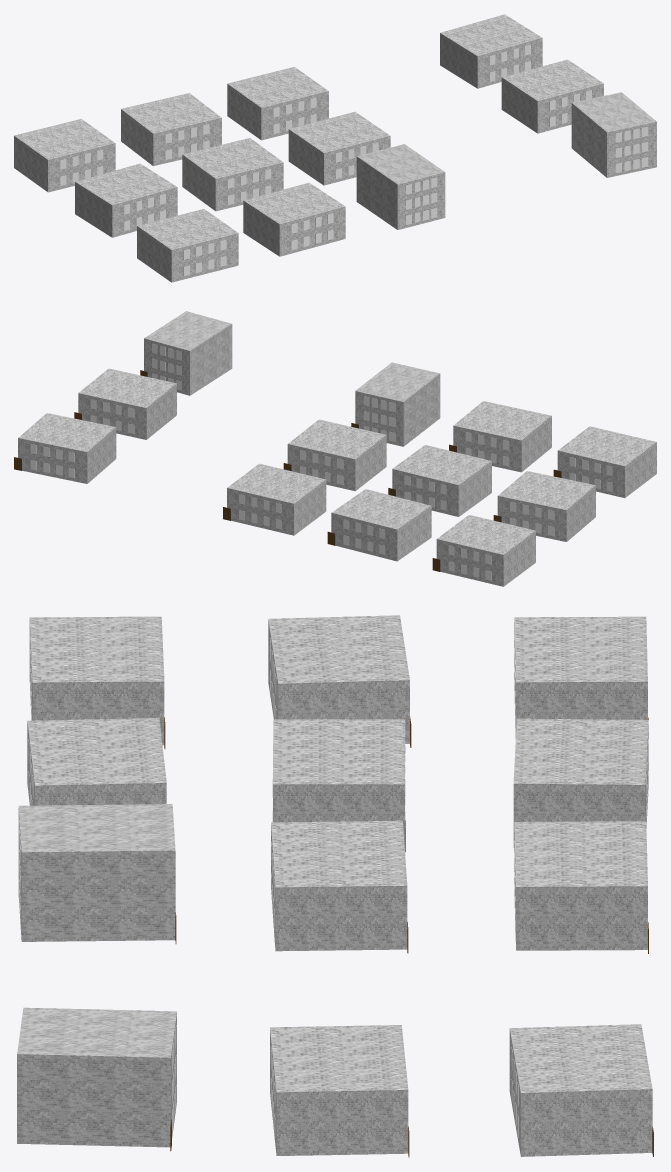
The model's file is bld_mlmupov9_vqi1w26.glb.
3 renders of one model, top to bottom at view 1: azimuth 30°, elevation 25°; view 2: azimuth 150°, elevation 25°; view 3: azimuth 270°, elevation 25°, orthographic. The views are drawn at different scales.
Visible parts, largest first — view 1: building-building-1771105878157-12, building-building-1771105878157-11, building-building-1771105878157-14, building-building-1771105878157-10, building-building-1771105878157-4, building-building-1771105878157-5, building-building-1771105878157-2, building-building-1771105878156-0, building-building-1771105878157-6, building-building-1771105878157-1, building-building-1771105878157-9, building-building-1771105878157-7; view 2: building-building-1771105878157-1, building-building-1771105878157-14, building-building-1771105878156-0, building-building-1771105878157-2, building-building-1771105878157-4, building-building-1771105878157-12, building-building-1771105878157-6, building-building-1771105878157-7, building-building-1771105878157-10, building-building-1771105878157-11, building-building-1771105878157-9, building-building-1771105878157-5; view 3: building-building-1771105878157-14, building-building-1771105878157-12, building-building-1771105878157-4, building-building-1771105878157-9, building-building-1771105878157-7, building-building-1771105878157-2, building-building-1771105878157-5, building-building-1771105878157-10, building-building-1771105878157-1, building-building-1771105878156-0, building-building-1771105878157-6, building-building-1771105878157-11.
Part boxes in pixels (x1,y1,x2,y2): building-building-1771105878157-12: (356, 144, 445, 229); building-building-1771105878157-11: (243, 182, 345, 256); building-building-1771105878157-14: (571, 92, 656, 177); building-building-1771105878157-10: (137, 209, 238, 282); building-building-1771105878157-4: (440, 14, 542, 88); building-building-1771105878157-5: (75, 163, 177, 237); building-building-1771105878157-2: (227, 67, 328, 140); building-building-1771105878156-0: (14, 119, 115, 192); building-building-1771105878157-6: (182, 138, 283, 211); building-building-1771105878157-1: (121, 93, 221, 166); building-building-1771105878157-9: (501, 59, 603, 133); building-building-1771105878157-7: (288, 111, 390, 185); building-building-1771105878157-1: (327, 489, 431, 561); building-building-1771105878157-14: (140, 311, 232, 395); building-building-1771105878156-0: (432, 515, 535, 586); building-building-1771105878157-2: (223, 463, 326, 535); building-building-1771105878157-4: (14, 413, 116, 483); building-building-1771105878157-12: (351, 362, 440, 446); building-building-1771105878157-6: (388, 445, 491, 516); building-building-1771105878157-7: (283, 419, 386, 491); building-building-1771105878157-10: (553, 426, 656, 498); building-building-1771105878157-11: (449, 401, 551, 472); building-building-1771105878157-9: (74, 368, 176, 439); building-building-1771105878157-5: (493, 471, 595, 541); building-building-1771105878157-14: (17, 1007, 176, 1151); building-building-1771105878157-12: (18, 804, 176, 943); building-building-1771105878157-4: (509, 1024, 653, 1156); building-building-1771105878157-9: (270, 1025, 409, 1157); building-building-1771105878157-7: (271, 820, 408, 953); building-building-1771105878157-2: (514, 821, 648, 953); building-building-1771105878157-5: (268, 615, 411, 747); building-building-1771105878157-10: (29, 616, 165, 748); building-building-1771105878157-1: (513, 718, 648, 847); building-building-1771105878156-0: (514, 616, 648, 737); building-building-1771105878157-6: (273, 719, 405, 852); building-building-1771105878157-11: (27, 718, 166, 805).
Size of the model in its own units: 103 by 9.03 by 57.88.
60 materials, 12 textured.
